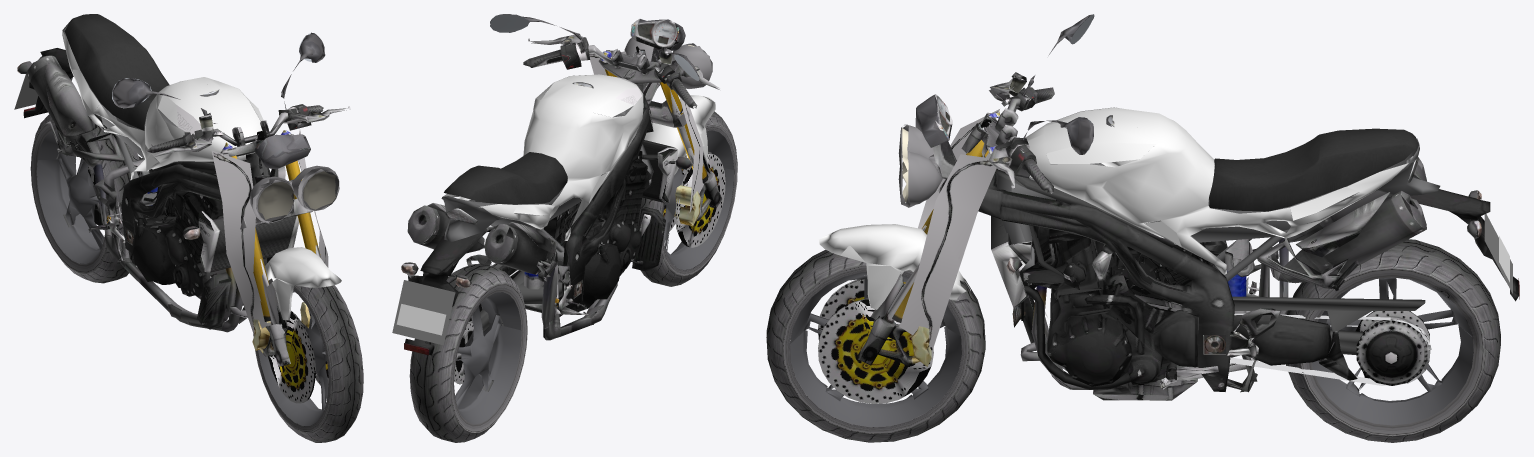
The model's file is triumph.glb.
3 renders of one model, left to right at view 1: azimuth 30°, elevation 25°; view 2: azimuth 150°, elevation 25°; view 3: azimuth 270°, elevation 25°, orthographic. The views are drawn at different scales.
Parts seen in each view (by area): view 1: body, wheel_F, wheel_R; view 2: body, wheel_R, wheel_F; view 3: body, wheel_F, wheel_R.
Boxes of the visible parts, <box> form: body: <box>14,14,350,366</box>; wheel_F: <box>253,278,363,442</box>; wheel_R: <box>30,114,147,283</box>; body: <box>392,14,721,355</box>; wheel_R: <box>409,263,527,442</box>; wheel_F: <box>637,111,737,286</box>; body: <box>819,14,1519,400</box>; wheel_F: <box>766,249,985,442</box>; wheel_R: <box>1286,239,1500,442</box>.
Size of the model in its own units: 0.8683 by 1.22 by 2.25.
Materials: 30 (19 with a texture image).
